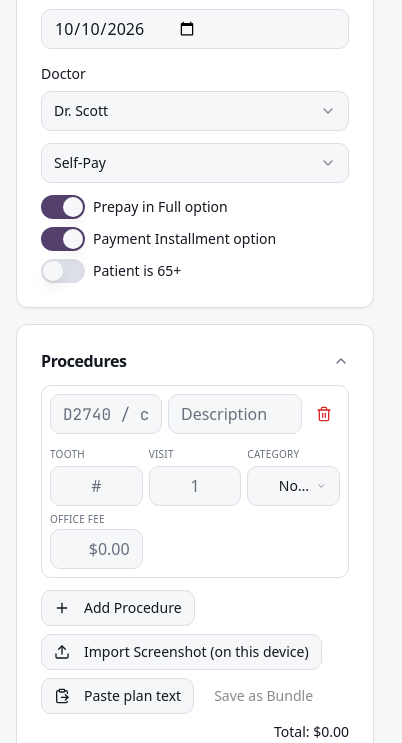
Test: payment groups follow the appointment the office copy prints › explains a paused preview and lets staff classify a custom office code in one click
(page scrolled)
Type "9434" into the field with placeholder "D2740 / crown". click: (106,414)
box: [50,394,162,434]
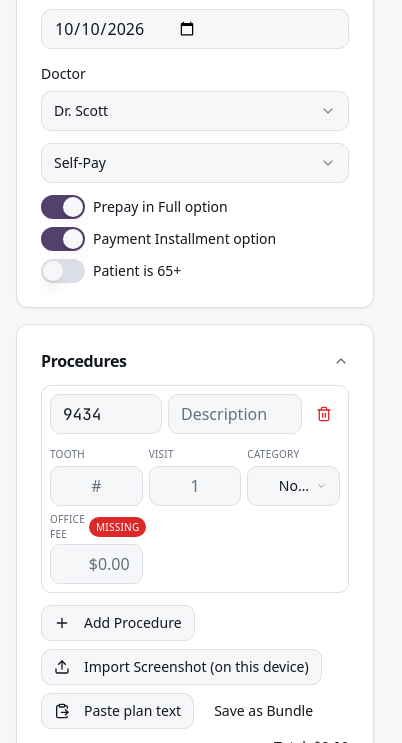
Type "150" into the field with placeholder "$0.00". click: (96,564)
box: [50,544,143,584]
(page scrolled)
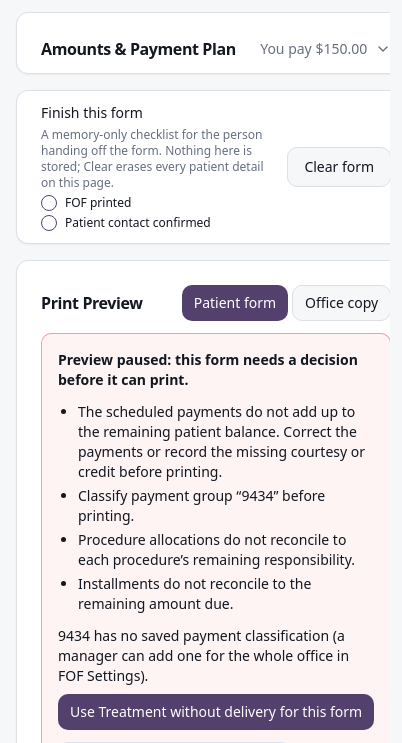
Expected: the text "Preview paused" is shown, [58,350,358,389]
Click the button "Use Treatment without delivery for this form". click: (216,712)
box: [58,694,374,730]
(page scrolled)
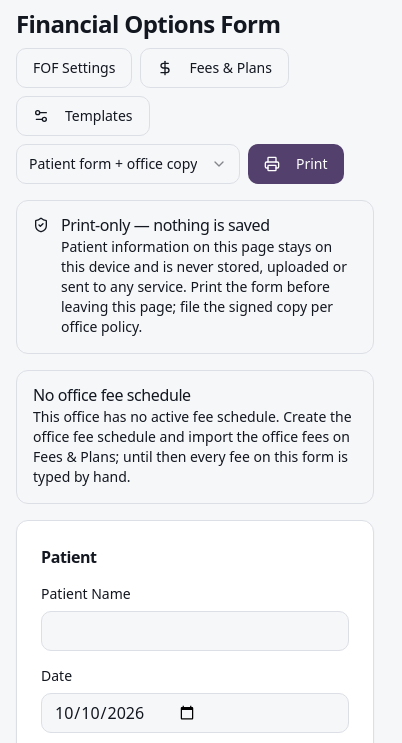
Expected: the text "Preview paused" is gone
Expected: the button "Print" is enabled, [248,144,344,184]
